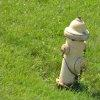a fire hydrant: (57, 16, 91, 92)
